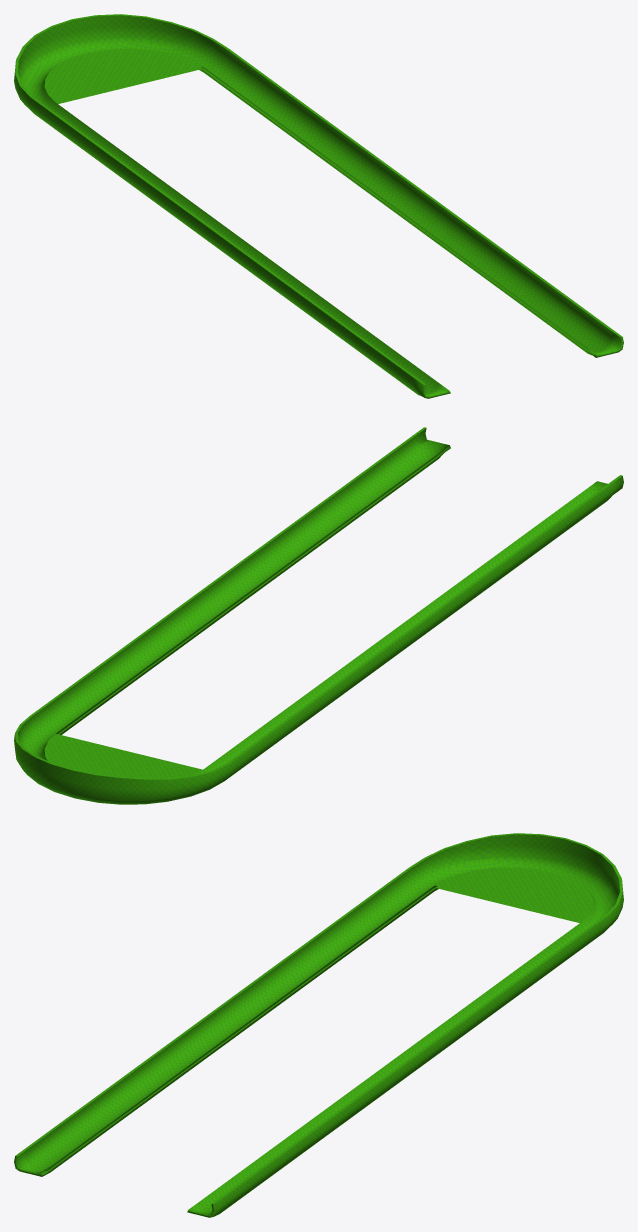
The model's file is gutter.glb.
3 renders of one model, top to bottom at view 1: azimuth 30°, elevation 25°; view 2: azimuth 150°, elevation 25°; view 3: azimuth 330°, elevation 25°, orthographic.
Parts seen in each view (by area): view 1: gutter; view 2: gutter; view 3: gutter.
Boxes of the visible parts, bbox=[...] form: gutter: bbox=[14, 14, 623, 398]; gutter: bbox=[14, 427, 623, 804]; gutter: bbox=[14, 833, 623, 1217].
Bounding box in the file's own units: 2.27 × 0.365 × 8.84.
1 material, 1 textured.
